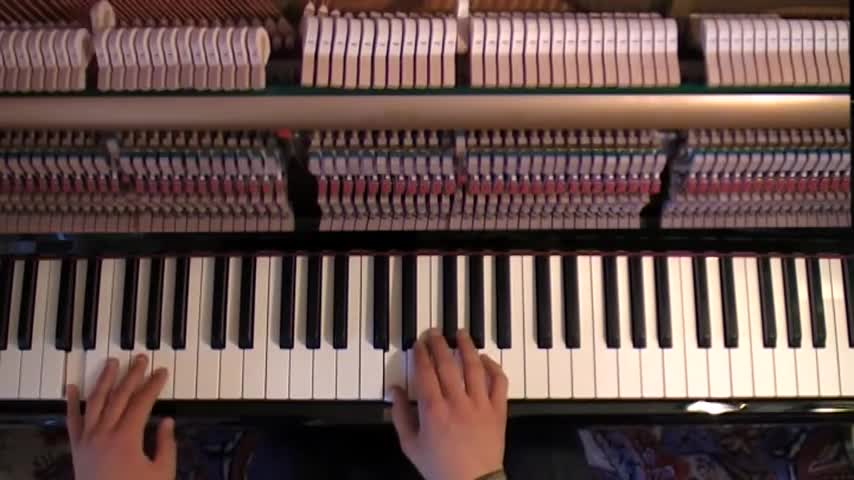left: (62, 351, 180, 479)
right: (387, 327, 509, 480)
